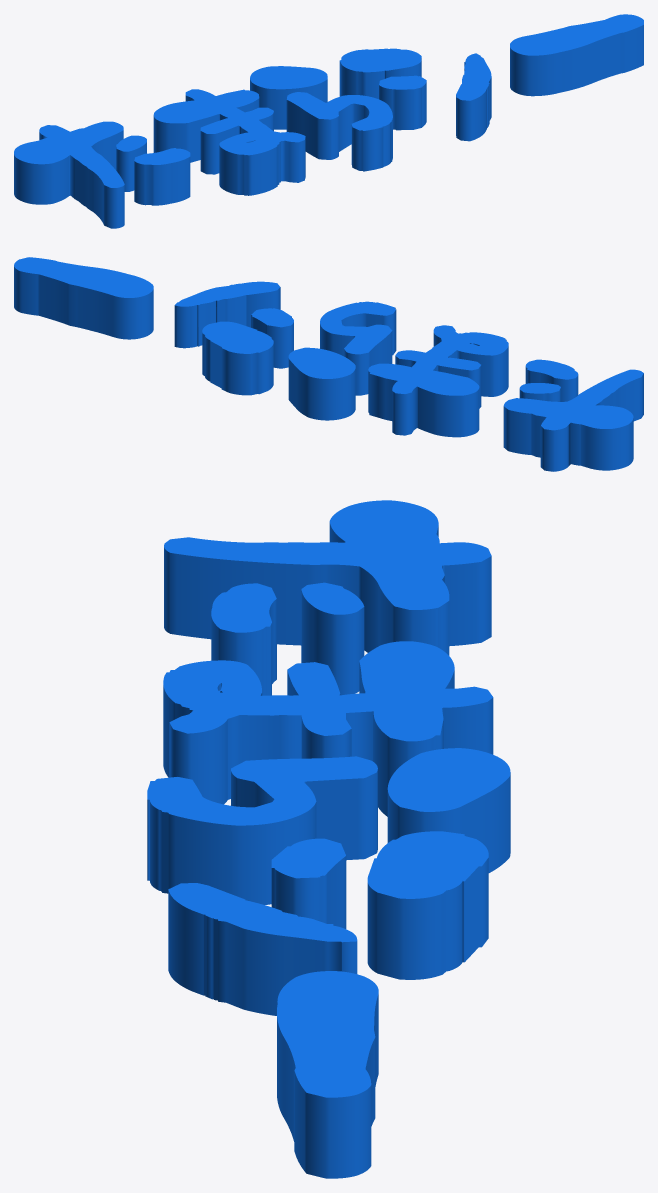
The model's file is title_futi.obj.
3 views of the same model, one above another, from view 1: azimuth 30°, elevation 25°; view 2: azimuth 150°, elevation 25°; view 3: azimuth 270°, elevation 25° (orthographic). The views are drawn at different scales.
Parts seen in each view (by area): view 1: テキスト.001; view 2: テキスト.001; view 3: テキスト.001.
Boxes of the visible parts, box(x1,y1,x2,y2) form: テキスト.001: box(14, 14, 643, 228); テキスト.001: box(14, 257, 643, 471); テキスト.001: box(147, 500, 510, 1178).
Bounding box in the file's own units: 3.16 × 0.2 × 0.8122.
